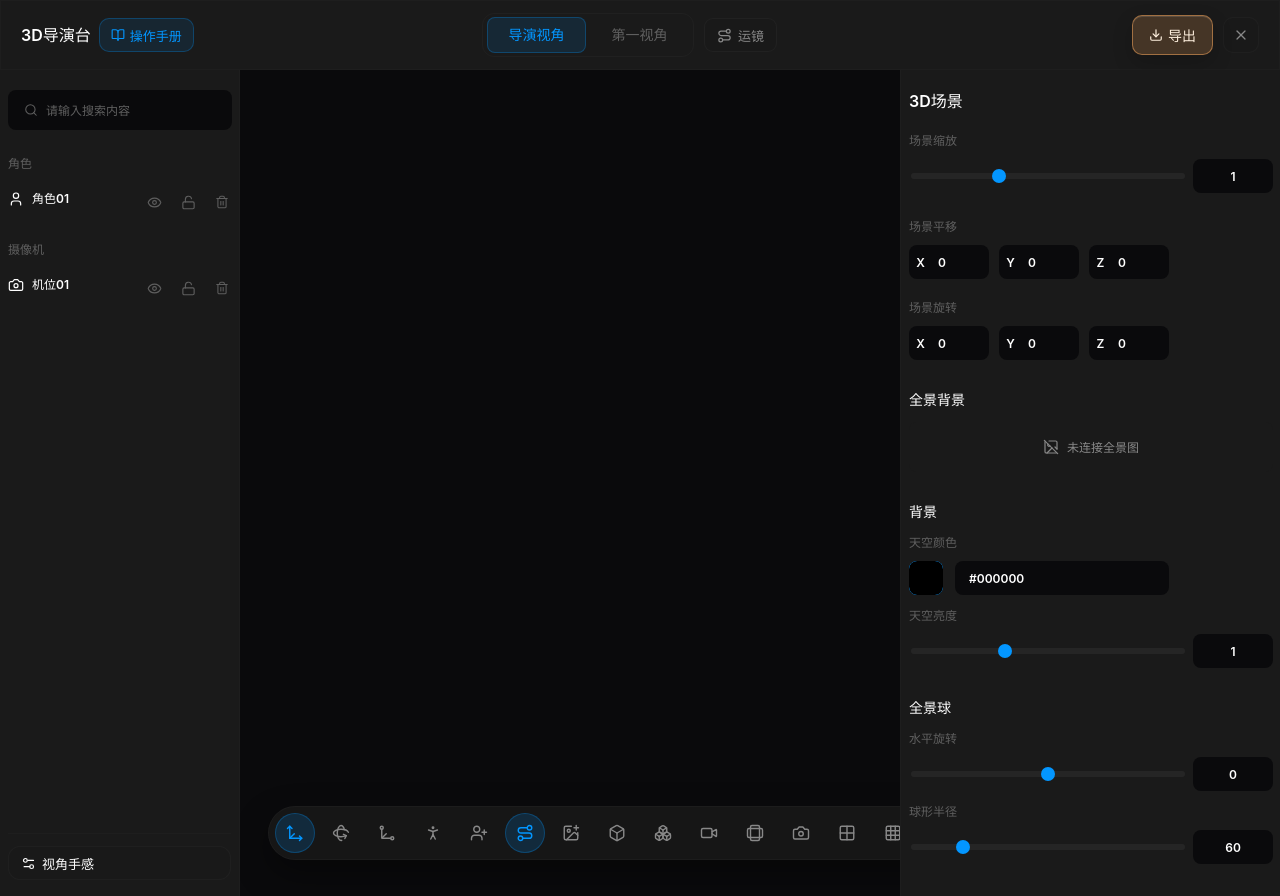
it: returns to the director desk home from the editor close action
The width and height of the screenshot is (1280, 896).
Click the button named "关闭". click: (1241, 35)
box: [1223,17,1259,53]
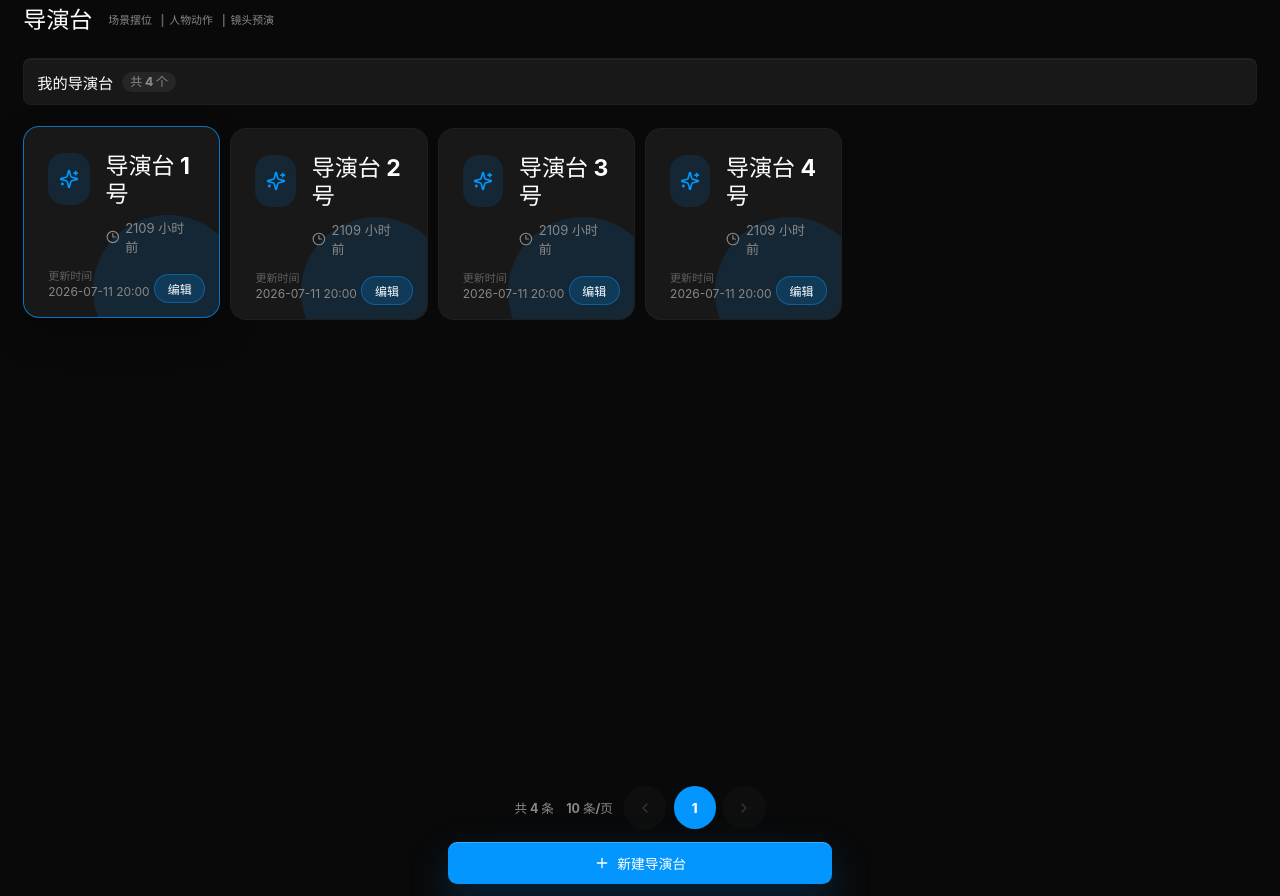
Now the heading "导演台" is shown, box [23,7,92,35]
